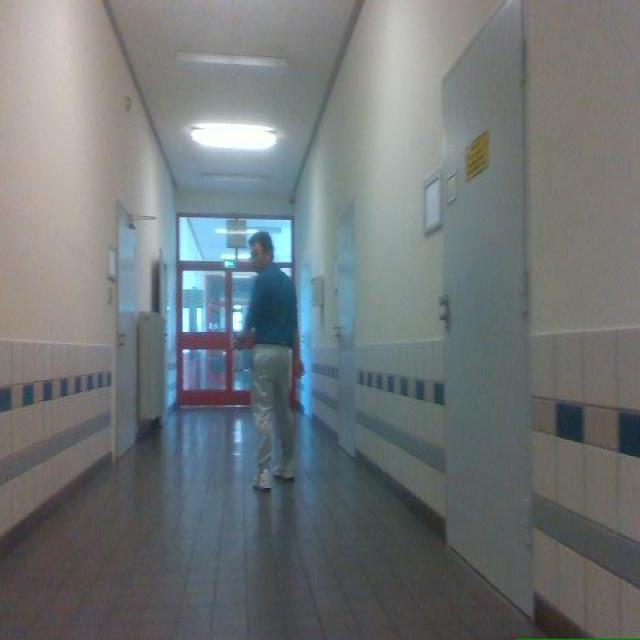humans: (238, 232, 303, 490)
